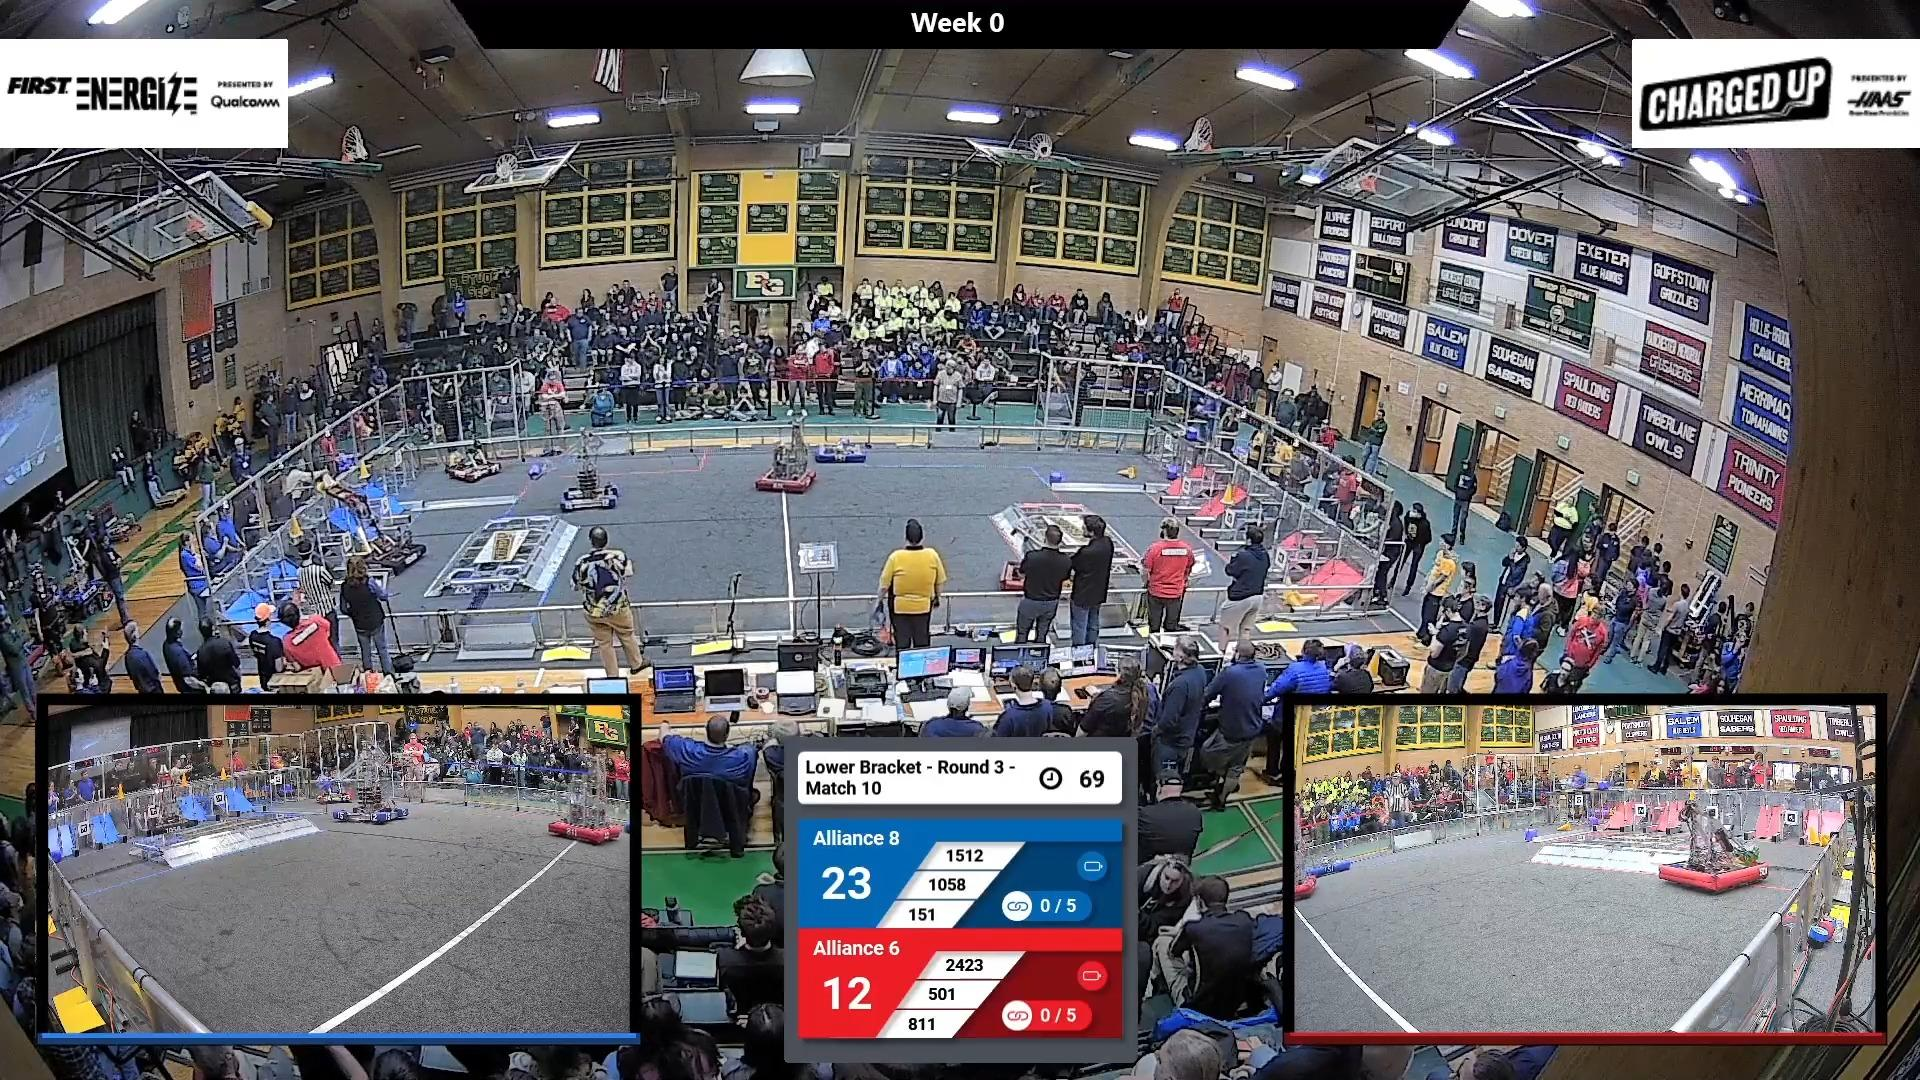robot: (334, 477, 430, 574), (753, 418, 824, 505), (554, 438, 628, 518), (996, 525, 1069, 599), (438, 427, 504, 485), (811, 417, 873, 468)
